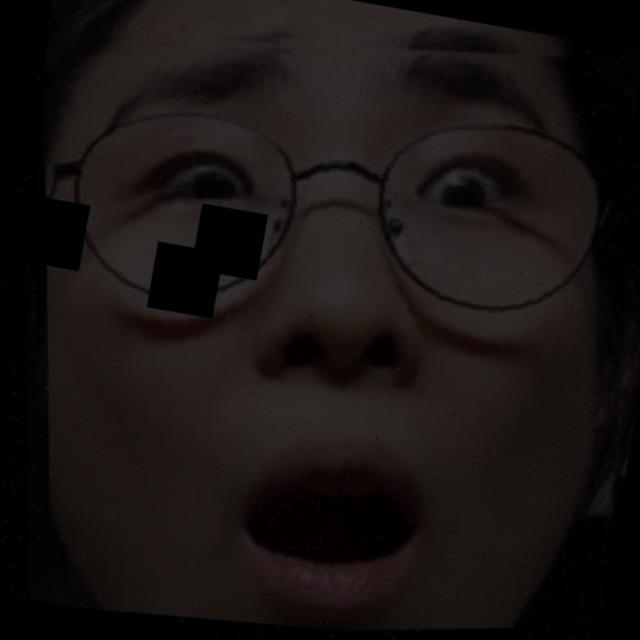Surprised: (35, 42, 592, 603)
